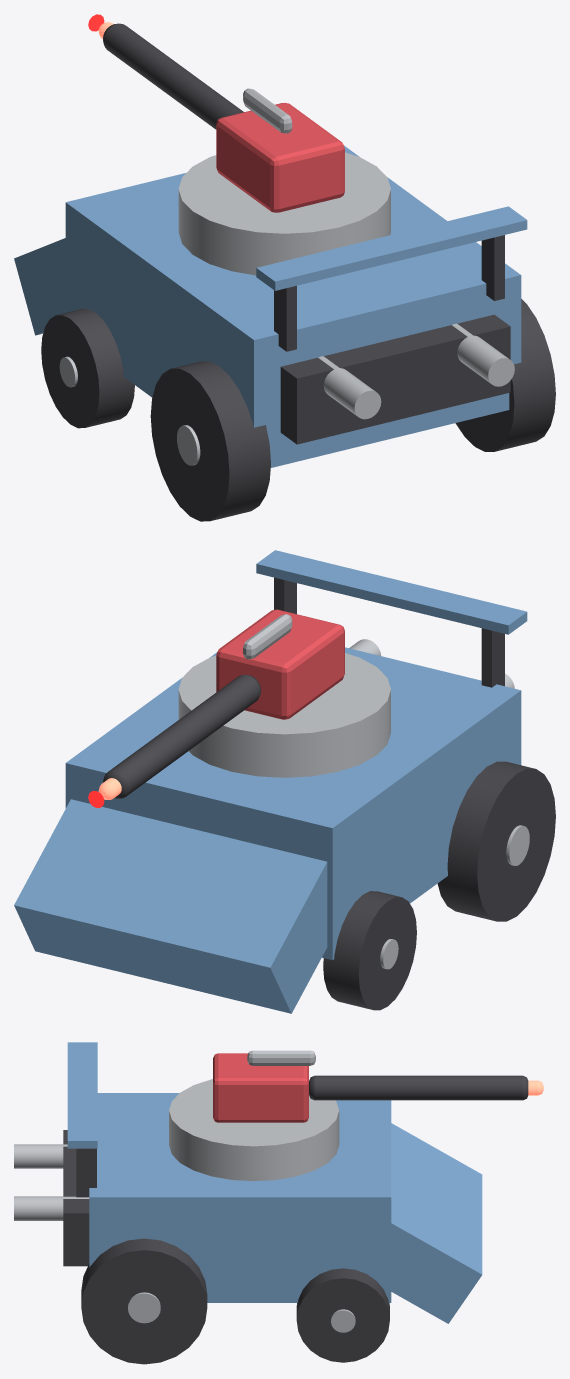
The model's file is robot_small_laser_sprint.glb.
3 renders of one model, top to bottom at view 1: azimuth 30°, elevation 25°; view 2: azimuth 150°, elevation 25°; view 3: azimuth 270°, elevation 25°, orthographic. The views are drawn at different scales.
Parts seen in each view (by area): view 1: robot_small_laser_sprint, robot_small_laser_sprint_gun, robot_small_laser_sprint_wheel0, robot_small_laser_sprint_wheel1, robot_small_laser_sprint_wheel2; view 2: robot_small_laser_sprint, robot_small_laser_sprint_gun, robot_small_laser_sprint_wheel0, robot_small_laser_sprint_wheel1; view 3: robot_small_laser_sprint, robot_small_laser_sprint_gun, robot_small_laser_sprint_wheel2, robot_small_laser_sprint_wheel3.
Boxes of the visible parts, box(x1,y1,x2,y2) form: robot_small_laser_sprint: box(14, 145, 527, 467); robot_small_laser_sprint_gun: box(98, 22, 344, 212); robot_small_laser_sprint_wheel0: box(150, 361, 270, 521); robot_small_laser_sprint_wheel1: box(41, 309, 134, 428); robot_small_laser_sprint_wheel2: box(455, 299, 555, 451); robot_small_laser_sprint: box(14, 550, 527, 1013); robot_small_laser_sprint_gun: box(98, 609, 344, 799); robot_small_laser_sprint_wheel0: box(437, 761, 555, 921); robot_small_laser_sprint_wheel1: box(323, 891, 416, 1010); robot_small_laser_sprint: box(14, 1042, 482, 1323); robot_small_laser_sprint_gun: box(213, 1050, 543, 1122); robot_small_laser_sprint_wheel2: box(81, 1238, 207, 1364); robot_small_laser_sprint_wheel3: box(296, 1268, 389, 1362).
Size of what is drawn, in the model's own units: 2.69 by 2.41 by 4.74.
